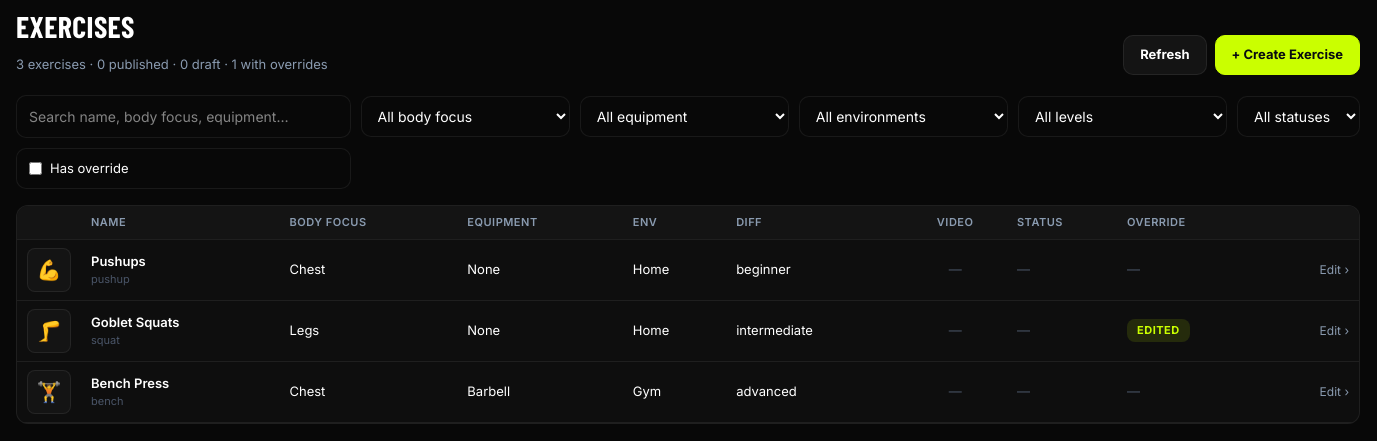
Test: ExercisesPage › "Has override" filter shows only overridden rows
The width and height of the screenshot is (1377, 441).
Expected: the text "Pushups" is shown, [91,252,146,268]
Click the checkbox labelled "Has override". click: (36,168)
box: [29,162,42,175]
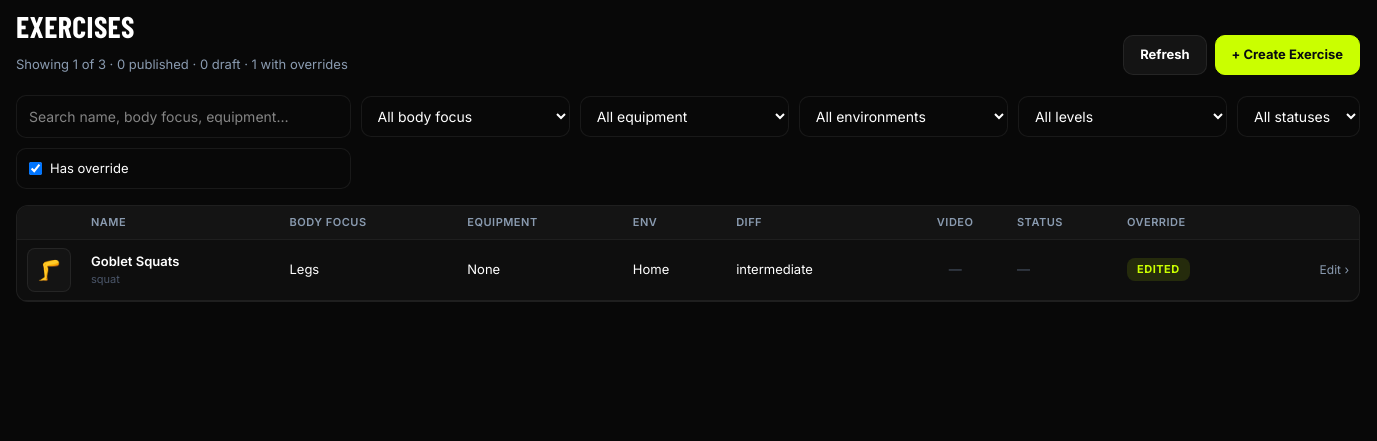
Expected: the text "Goblet Squats" is shown, [91,252,179,268]
Expected: the text "Pushups" is gone
